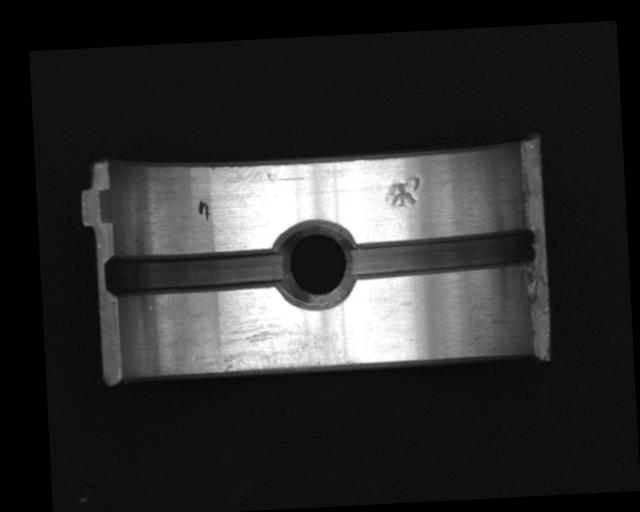blot: (197, 200, 209, 221)
bruise: (384, 174, 421, 208)
gap: (347, 224, 538, 281), (103, 245, 287, 297)
hole: (273, 217, 359, 311)
scratch: (186, 313, 362, 374)
